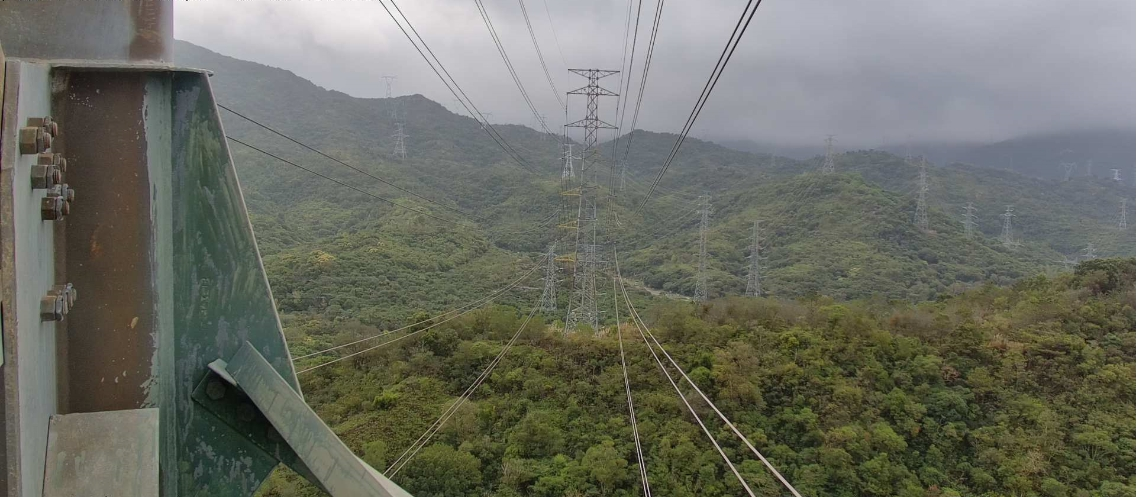山间云雾: (173, 1, 1136, 189)
